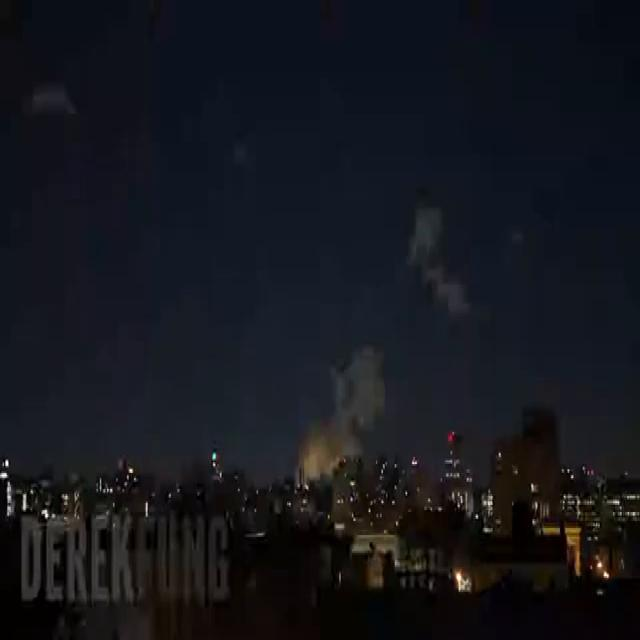smoke: (298, 345, 384, 476)
